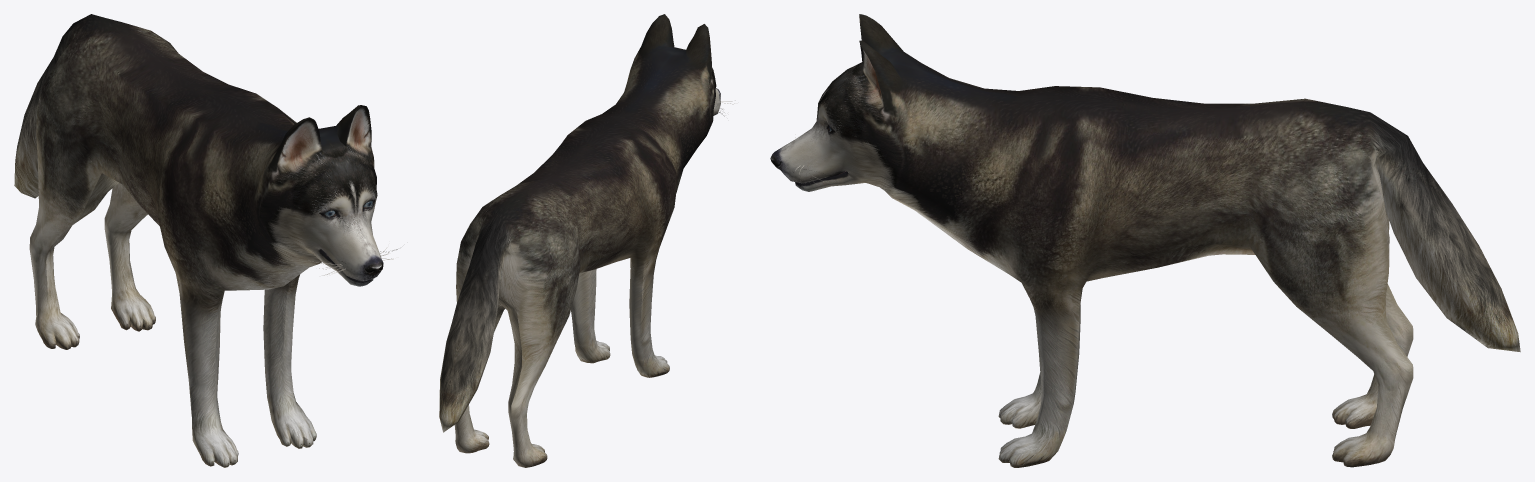
The picture shows the model from 3 angles, left to right: view 1: azimuth 30°, elevation 25°; view 2: azimuth 150°, elevation 25°; view 3: azimuth 270°, elevation 25°; orthographic projection. The views are drawn at different scales.
Visible parts, largest first — view 1: sobaka; view 2: sobaka; view 3: sobaka.
Boxes of the visible parts, x1=… form: sobaka: x1=14, y1=14, x2=397, y2=467; sobaka: x1=439, y1=14, x2=735, y2=467; sobaka: x1=770, y1=14, x2=1520, y2=467.
Size of the model in its own units: 308 by 829 by 1358.
Materials: 1 (1 with a texture image).
